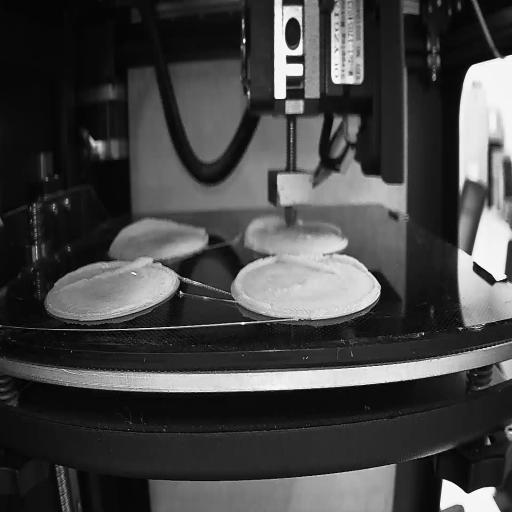over_extrusion: (56, 254, 154, 293), (113, 210, 206, 243), (234, 254, 281, 308), (286, 250, 368, 276), (243, 214, 284, 246), (301, 219, 345, 238)
